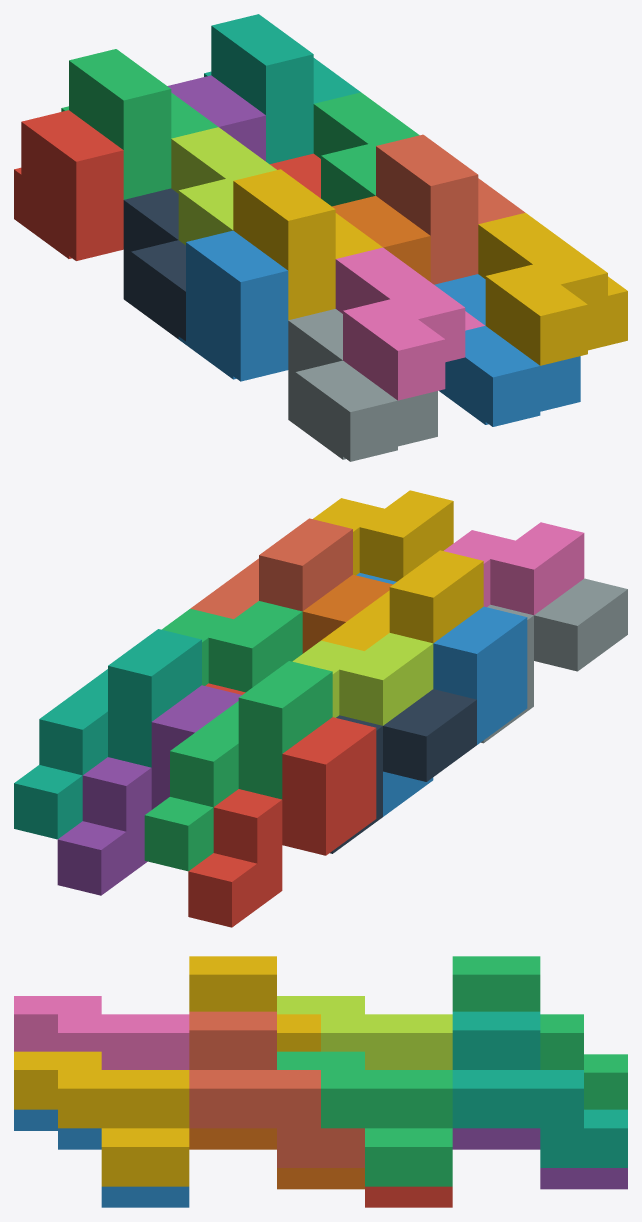
Rendered from tiling.obj.
The picture shows the model from 3 angles, top to bottom: view 1: azimuth 30°, elevation 25°; view 2: azimuth 150°, elevation 25°; view 3: azimuth 270°, elevation 25°; orthographic projection. The views are drawn at different scales.
Visible parts, largest first — view 1: copy_2_domain_8, copy_2_domain_4, copy_1_domain_1, copy_1_domain_2, copy_2_domain_2, copy_1_domain_3, copy_1_domain_7, copy_1_domain_8, copy_1_domain_4, copy_2_domain_6, copy_2_domain_1, copy_2_domain_3 (+4 smaller); view 2: copy_1_domain_1, copy_1_domain_3, copy_1_domain_7, copy_1_domain_5, copy_1_domain_2, copy_1_domain_4, copy_1_domain_8, copy_2_domain_3, copy_2_domain_4, copy_2_domain_8, copy_2_domain_7, copy_2_domain_1 (+2 smaller); view 3: copy_1_domain_7, copy_1_domain_8, copy_2_domain_8, copy_2_domain_7, copy_1_domain_3, copy_2_domain_4, copy_2_domain_3, copy_1_domain_4, copy_1_domain_5, copy_2_domain_6, copy_1_domain_6, copy_2_domain_5.
Part boxes in pixels (<box>): copy_2_domain_8: <box>478,213,627,365</box>; copy_2_domain_4: <box>335,247,485,400</box>; copy_1_domain_1: <box>14,110,123,260</box>; copy_1_domain_2: <box>178,230,288,381</box>; copy_2_domain_2: <box>288,309,437,461</box>; copy_1_domain_3: <box>61,49,217,199</box>; copy_1_domain_7: <box>204,14,360,164</box>; copy_1_domain_8: <box>376,134,525,284</box>; copy_1_domain_4: <box>233,169,382,320</box>; copy_2_domain_6: <box>434,274,580,426</box>; copy_2_domain_1: <box>123,188,185,341</box>; copy_2_domain_3: <box>171,127,276,245</box>; copy_1_domain_1: <box>188,717,376,927</box>; copy_1_domain_3: <box>144,661,332,871</box>; copy_1_domain_7: <box>14,629,201,839</box>; copy_1_domain_5: <box>57,685,241,895</box>; copy_1_domain_2: <box>383,606,527,816</box>; copy_1_domain_4: <box>321,550,483,650</box>; copy_1_domain_8: <box>190,518,352,619</box>; copy_2_domain_3: <box>292,633,433,725</box>; copy_2_domain_4: <box>444,522,584,615</box>; copy_2_domain_8: <box>313,490,453,581</box>; copy_2_domain_7: <box>162,601,302,692</box>; copy_2_domain_1: <box>330,689,476,853</box>; copy_1_domain_7: <box>452,1011,627,1167</box>; copy_1_domain_8: <box>189,1011,364,1167</box>; copy_2_domain_8: <box>14,1051,189,1186</box>; copy_2_domain_7: <box>277,1051,452,1186</box>; copy_1_domain_3: <box>452,956,627,1109</box>; copy_2_domain_4: <box>14,996,189,1069</box>; copy_2_domain_3: <box>277,996,452,1069</box>; copy_1_domain_4: <box>189,956,320,1051</box>; copy_1_domain_5: <box>452,1128,627,1189</box>; copy_2_domain_6: <box>14,1109,189,1207</box>; copy_1_domain_6: <box>189,1128,364,1189</box>; copy_2_domain_5: <box>365,1186,452,1207</box>.
Bounding box in the file's own units: 7 × 4 × 14.
